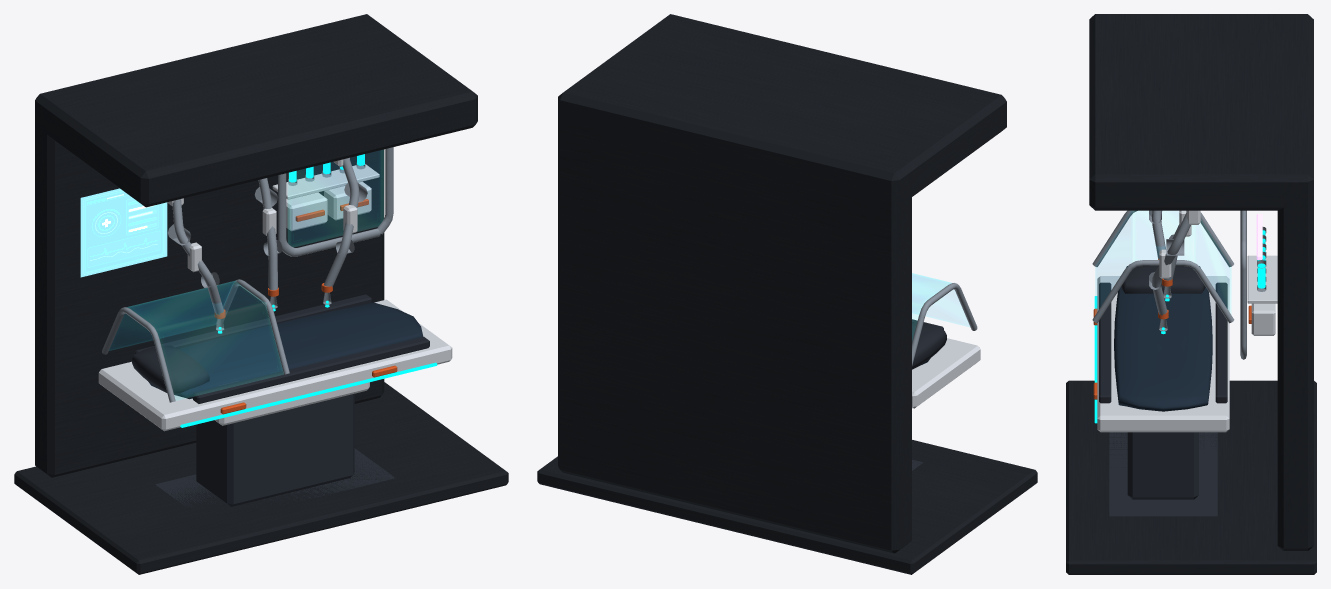
File: med_autodoc_r1_03.glb
The picture shows the model from 3 angles, left to right: view 1: azimuth 30°, elevation 25°; view 2: azimuth 150°, elevation 25°; view 3: azimuth 270°, elevation 25°; orthographic projection.
Parts seen in each view (by area): view 1: Autodoc03_CArmGunmetalCrane, Autodoc03_TranslucentClamshellShield, Autodoc03_CarbonSlatePedestal, Autodoc03_WhiteBedAndCowlings, Autodoc03_OrbitalNavyPad, Autodoc03_MachinedRoboticManipulators, Autodoc03_CharcoalBolsters, Autodoc03_OLEDVitalsConsole, Autodoc03_CyanScannerAndVialsLED, Autodoc03_SignalOrangeLocksAndLasers; view 2: Autodoc03_CArmGunmetalCrane, Autodoc03_WhiteBedAndCowlings, Autodoc03_TranslucentClamshellShield, Autodoc03_CharcoalBolsters, Autodoc03_MachinedRoboticManipulators; view 3: Autodoc03_CArmGunmetalCrane, Autodoc03_OrbitalNavyPad, Autodoc03_CarbonSlatePedestal, Autodoc03_WhiteBedAndCowlings, Autodoc03_MachinedRoboticManipulators, Autodoc03_TranslucentClamshellShield, Autodoc03_CharcoalBolsters, Autodoc03_CyanScannerAndVialsLED, Autodoc03_SignalOrangeLocksAndLasers.
Part boxes in pixels (x1,y1,x2,y2): Autodoc03_CArmGunmetalCrane: (14, 14, 508, 574); Autodoc03_TranslucentClamshellShield: (109, 150, 383, 400); Autodoc03_CarbonSlatePedestal: (155, 393, 395, 509); Autodoc03_WhiteBedAndCowlings: (98, 157, 452, 431); Autodoc03_OrbitalNavyPad: (148, 302, 423, 399); Autodoc03_MachinedRoboticManipulators: (102, 147, 393, 402); Autodoc03_CharcoalBolsters: (132, 294, 429, 403); Autodoc03_OLEDVitalsConsole: (80, 188, 167, 277); Autodoc03_CyanScannerAndVialsLED: (180, 154, 437, 427); Autodoc03_SignalOrangeLocksAndLasers: (214, 199, 397, 414); Autodoc03_CArmGunmetalCrane: (537, 14, 1037, 574); Autodoc03_WhiteBedAndCowlings: (912, 338, 980, 408); Autodoc03_TranslucentClamshellShield: (912, 273, 969, 338); Autodoc03_CharcoalBolsters: (912, 319, 946, 369); Autodoc03_MachinedRoboticManipulators: (912, 283, 977, 365); Autodoc03_CArmGunmetalCrane: (1066, 14, 1316, 574); Autodoc03_OrbitalNavyPad: (1114, 287, 1212, 411); Autodoc03_CarbonSlatePedestal: (1109, 432, 1217, 516); Autodoc03_WhiteBedAndCowlings: (1097, 210, 1277, 432); Autodoc03_MachinedRoboticManipulators: (1092, 210, 1266, 359); Autodoc03_TranslucentClamshellShield: (1096, 211, 1230, 312); Autodoc03_CharcoalBolsters: (1099, 266, 1227, 403); Autodoc03_CyanScannerAndVialsLED: (1094, 230, 1265, 423); Autodoc03_SignalOrangeLocksAndLasers: (1093, 258, 1251, 399).
Bounding box in the file's own units: 2.15 × 2.15 × 1.25.
Materials: 12 (12 with a texture image).
